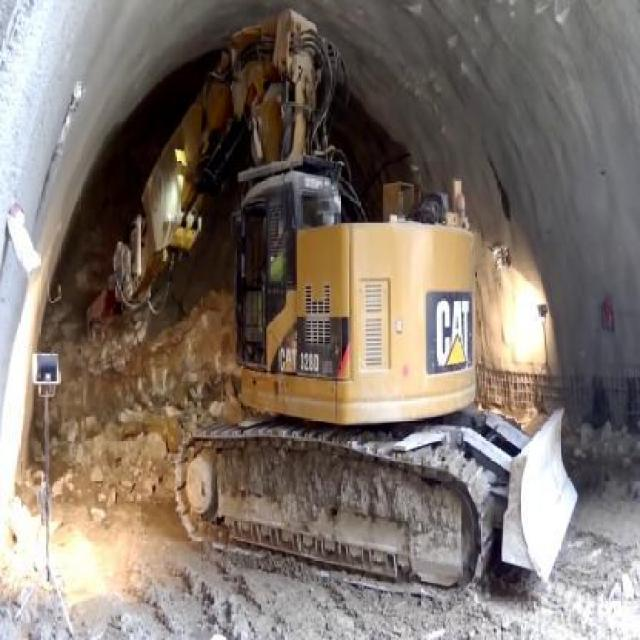Excavator: (84, 7, 581, 601)
